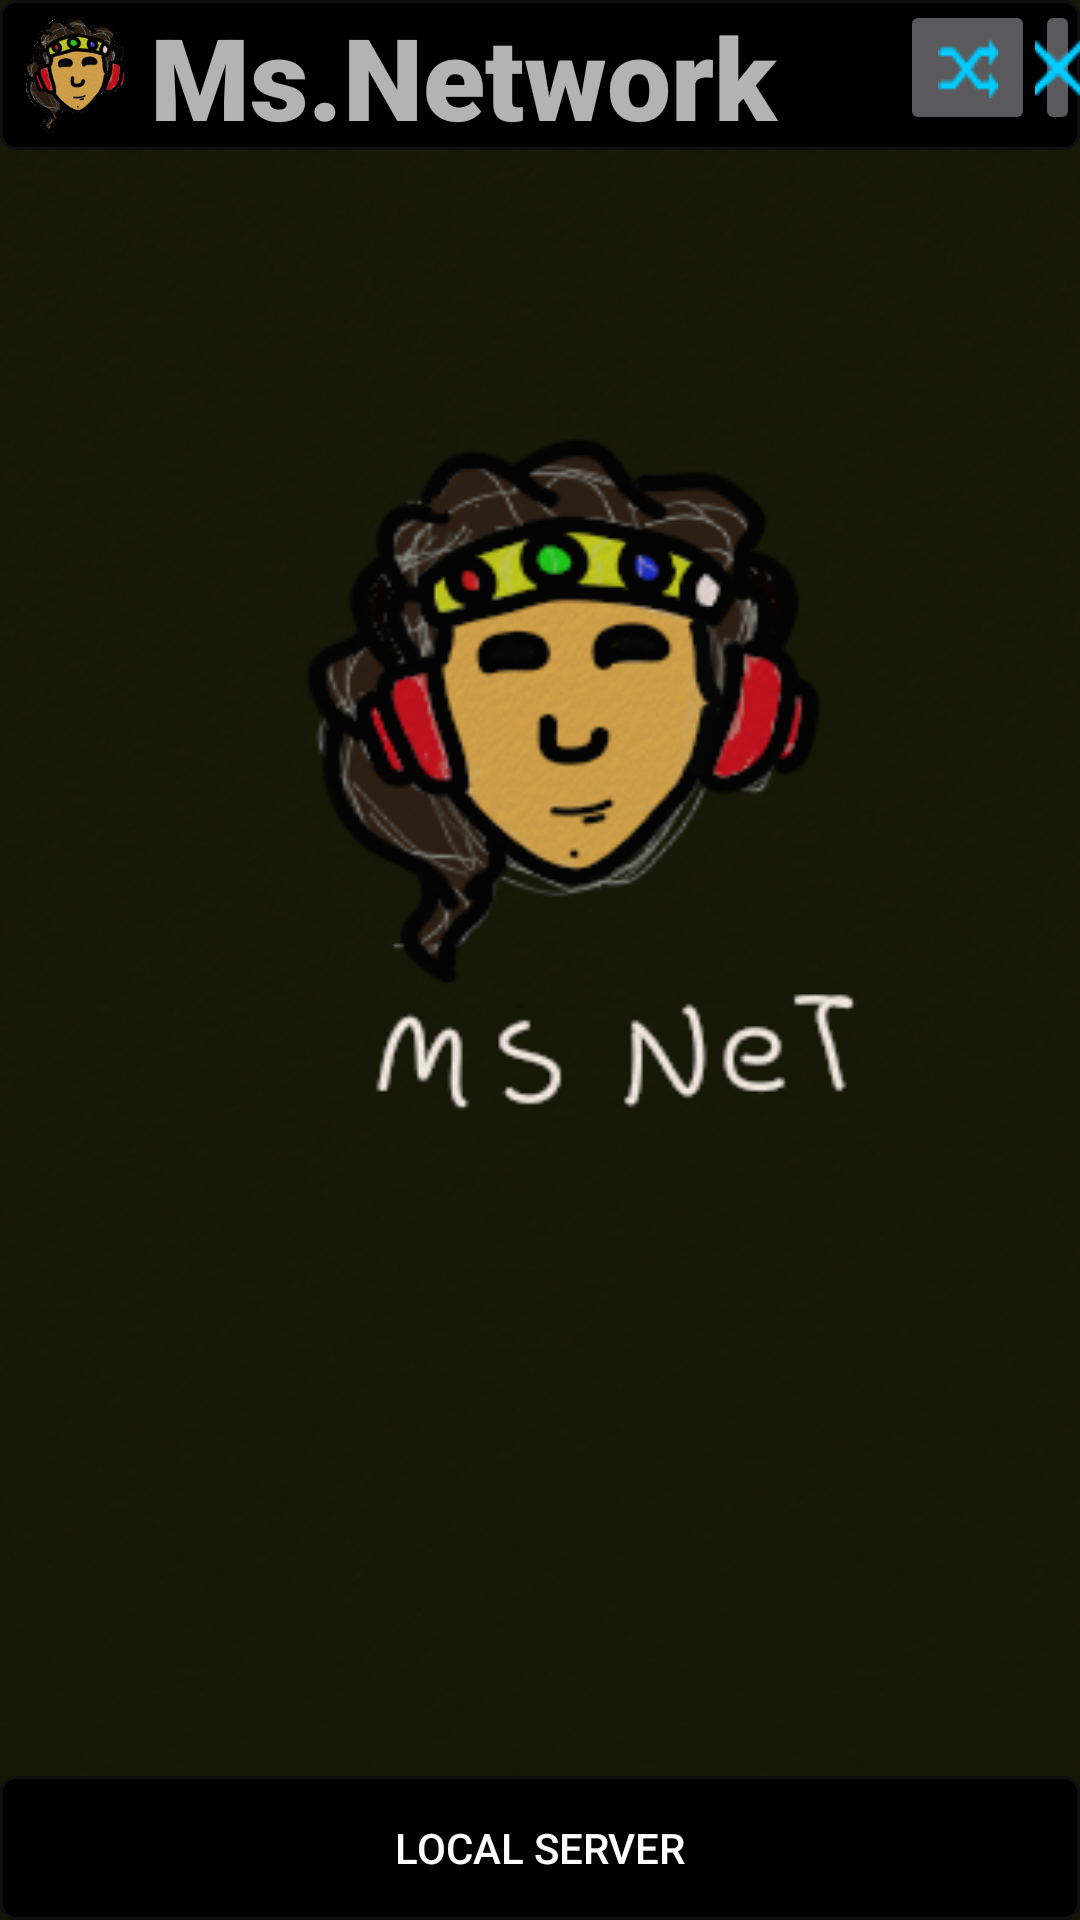

Icon click points for this 1080 × 1920 phone screenshot, format (x,y):
shuffle: (967,67)
stop: (1057,58)
